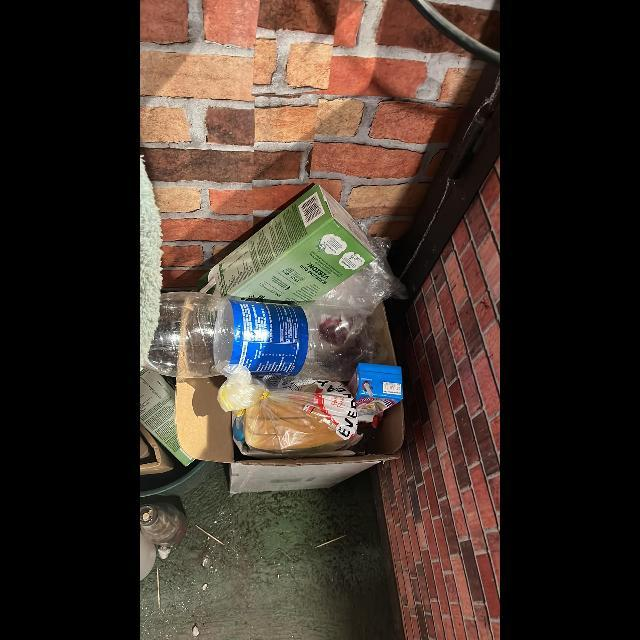paper: (198, 185, 376, 302), (347, 362, 402, 420)
plastic: (142, 291, 389, 382), (217, 364, 364, 454), (316, 221, 409, 314)
